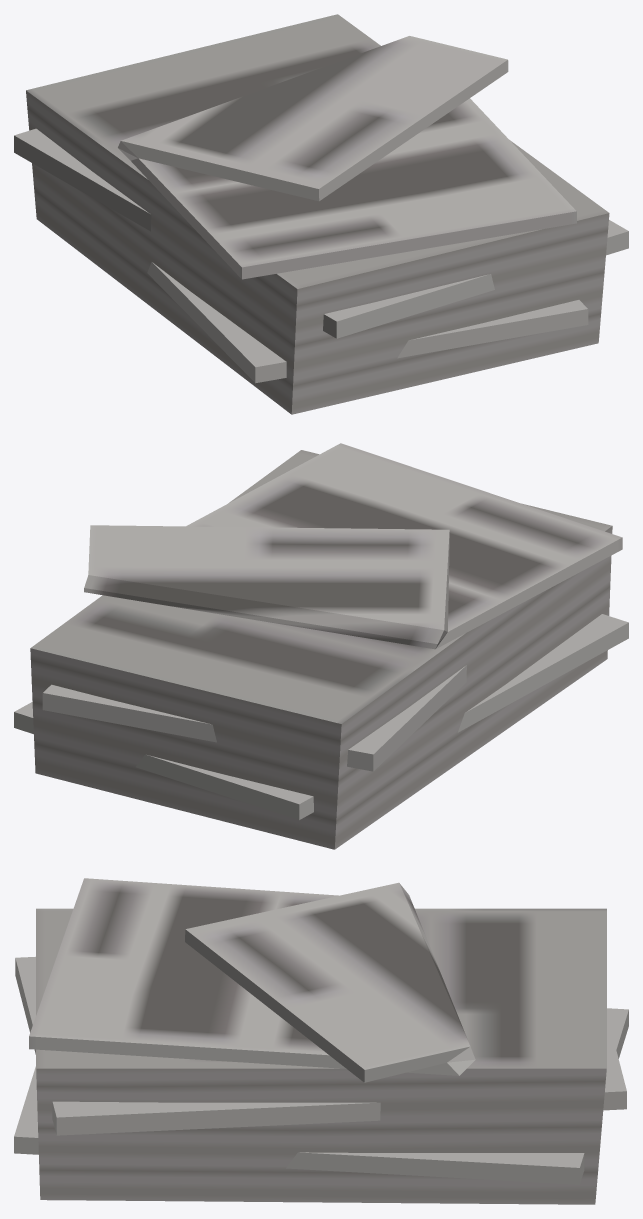
Rendered from SM_Prop_Paper_Pile_03.glb.
The picture shows the model from 3 angles, top to bottom: view 1: azimuth 30°, elevation 25°; view 2: azimuth 150°, elevation 25°; view 3: azimuth 270°, elevation 25°; orthographic projection. The views are drawn at different scales.
Visible parts, largest first — view 1: SM_Prop_Paper_Pile_03; view 2: SM_Prop_Paper_Pile_03; view 3: SM_Prop_Paper_Pile_03.
Boxes of the visible parts, box(x1,y1,x2,y2) form: SM_Prop_Paper_Pile_03: box(14, 14, 628, 414); SM_Prop_Paper_Pile_03: box(14, 443, 628, 849); SM_Prop_Paper_Pile_03: box(14, 878, 628, 1204).
Bounding box in the file's own units: 0.2835 × 0.105 × 0.3594.
Materials: 1 (1 with a texture image).
